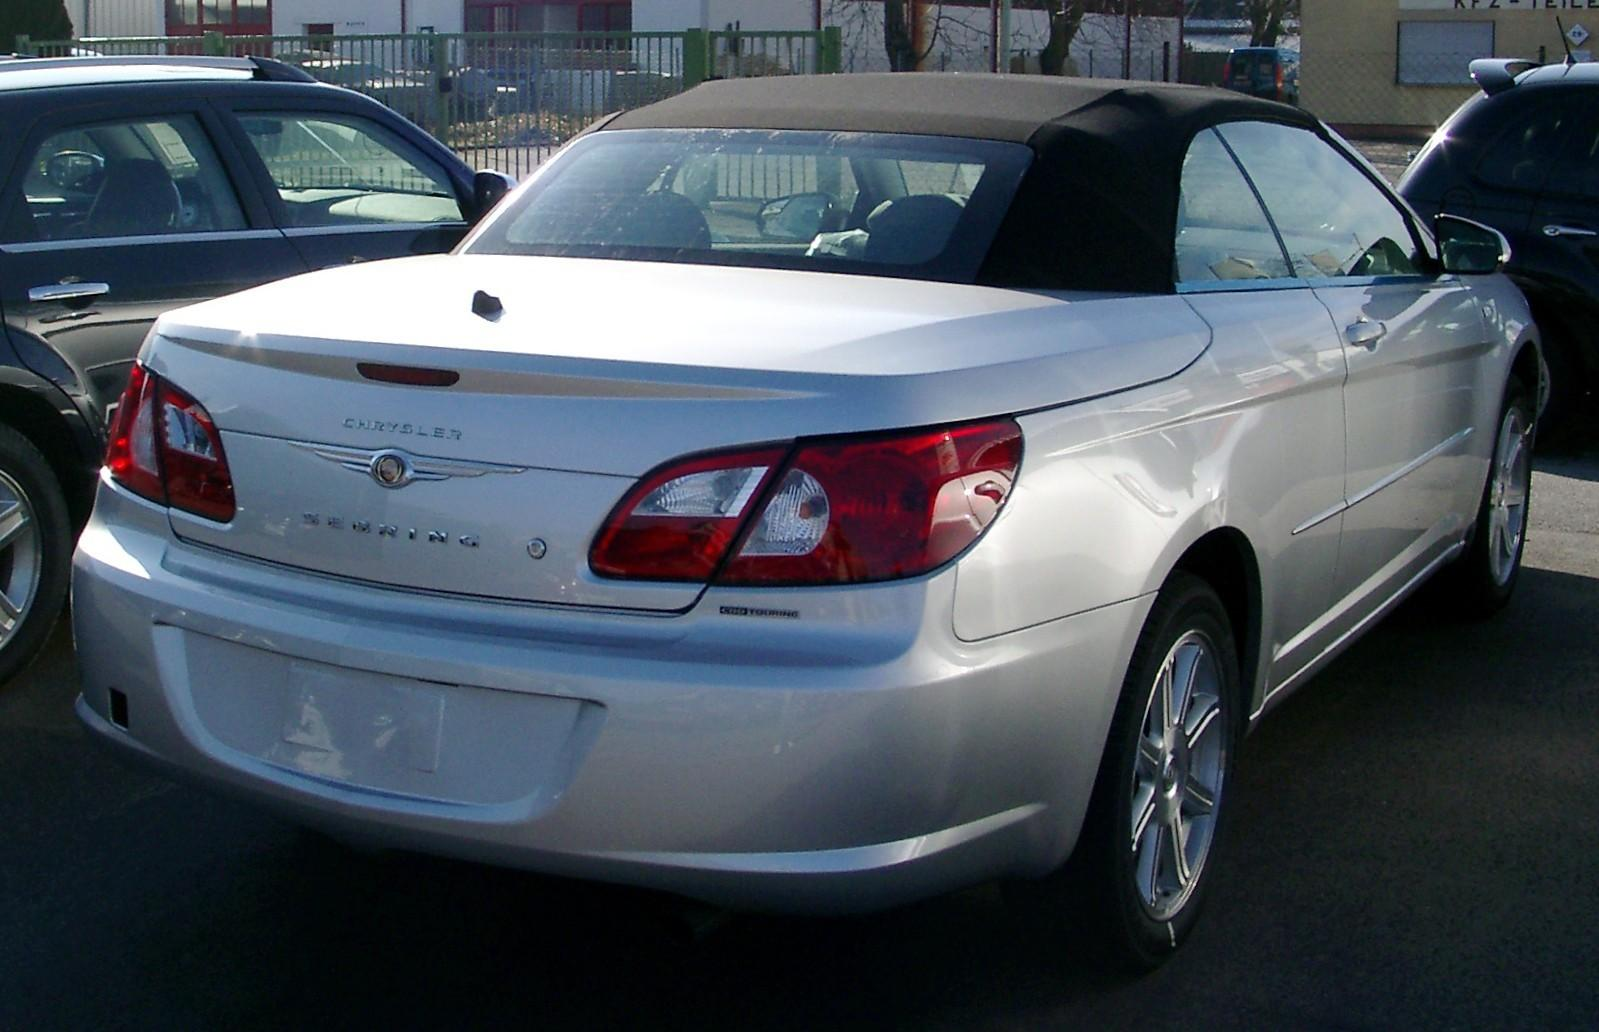Chrysler: (271, 416, 551, 513)
